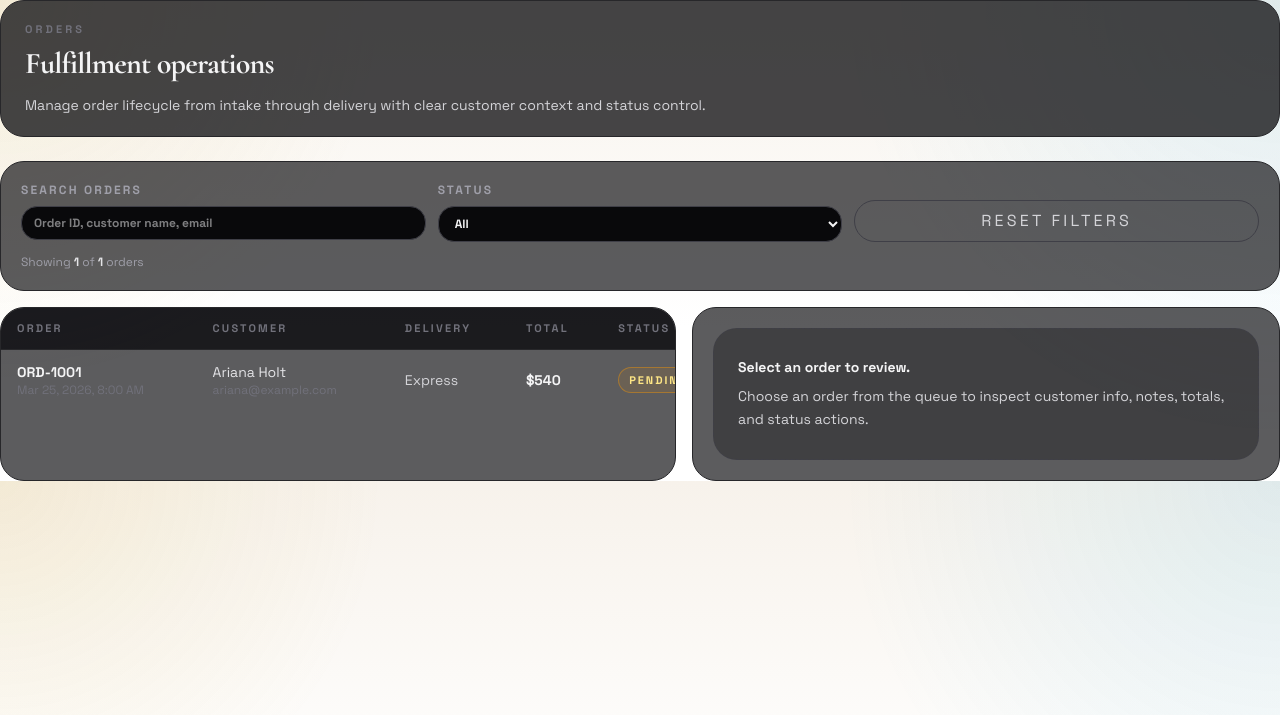
Test: AdminOrdersPage › supports keyboard order selection and confirmed status update workflow
The width and height of the screenshot is (1280, 715).
Press Enter in the button "ORD-1001", box [1,349,741,410]
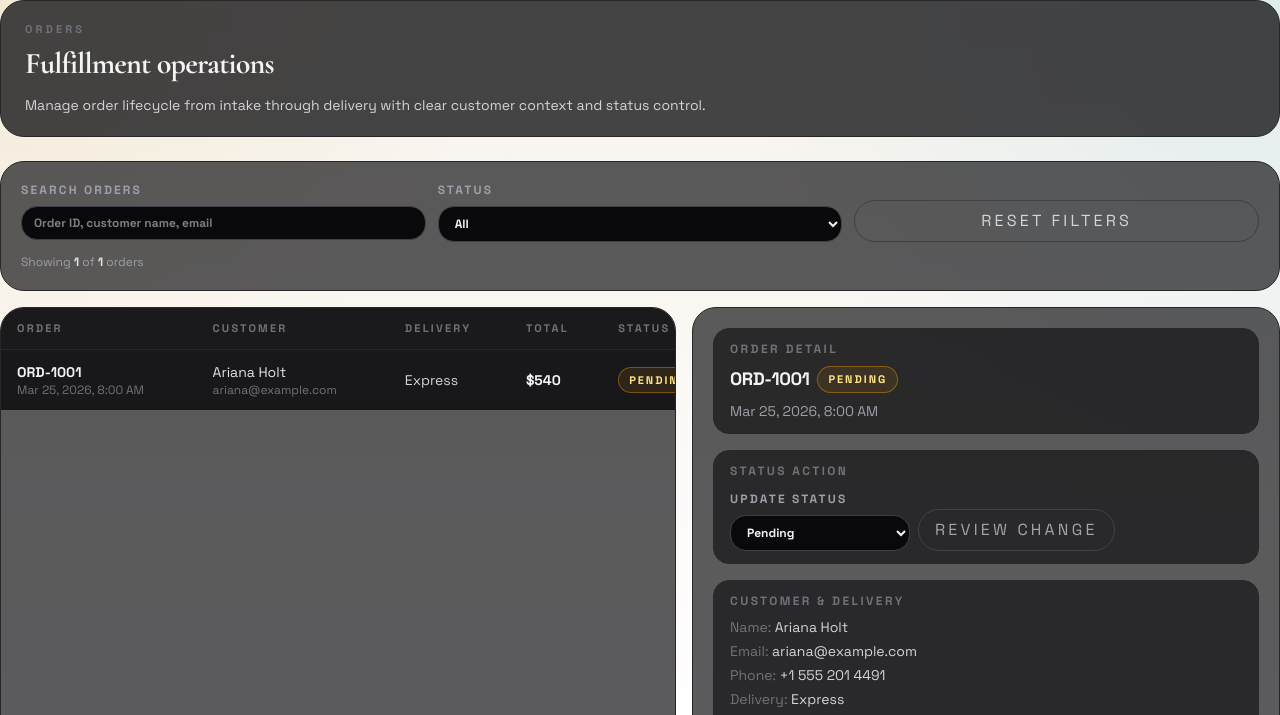
Expected: the text "Order detail" is shown, [730,341,838,357]
Select "Shipped" in the dropdown labelled "Update status": (820, 533) [730,515,910,551]
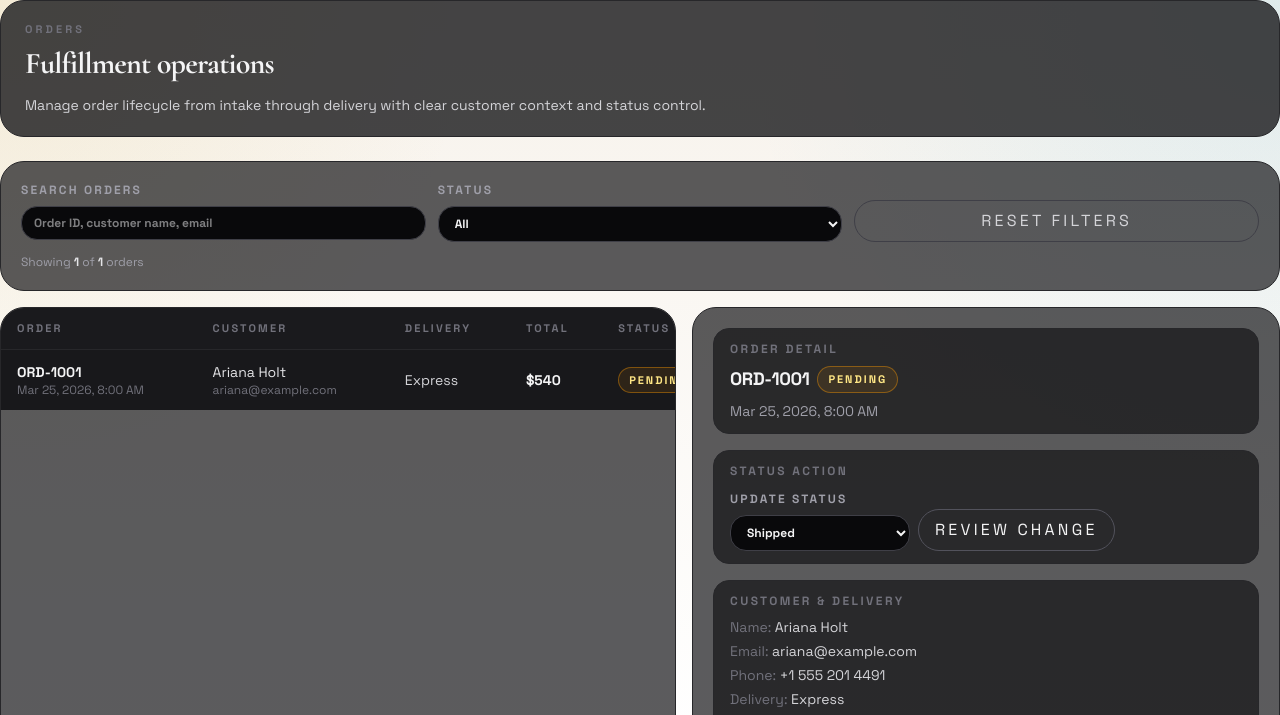
Click the button "Review change": (1016, 530) [918,509,1115,551]
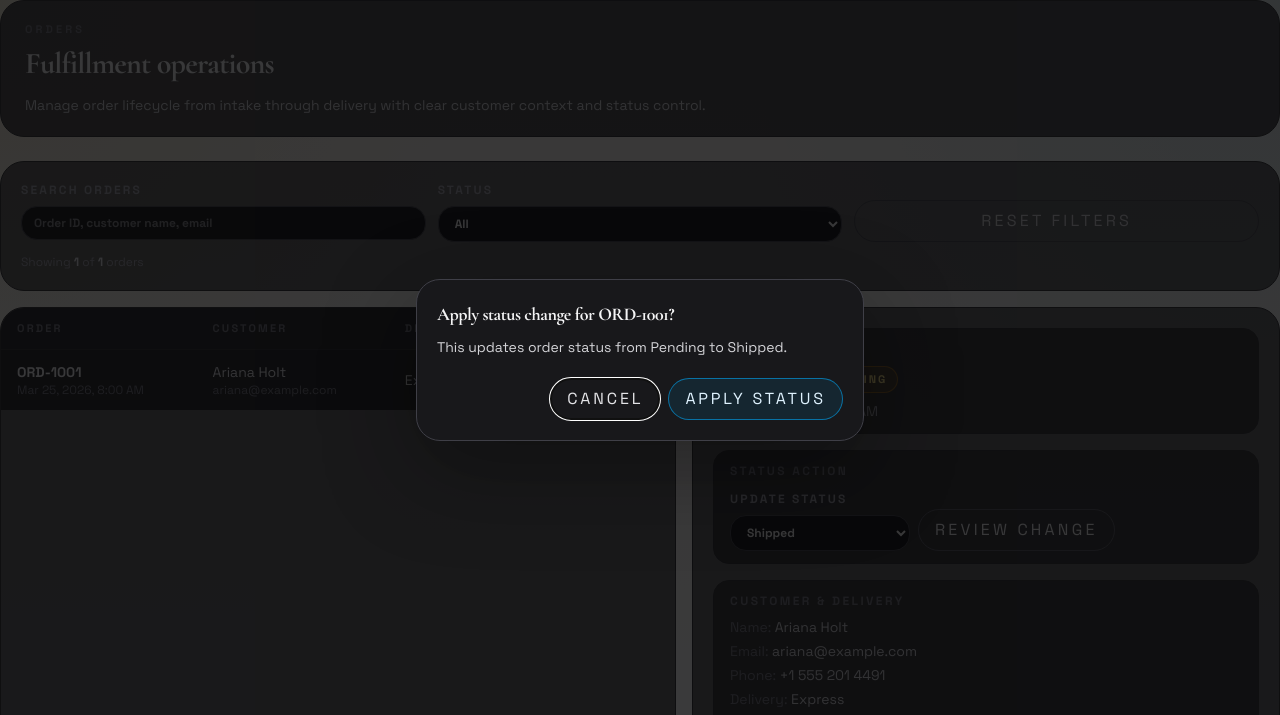
Expected: the dialog is shown, [416,279,864,441]
Click the button "Apply status": (756, 399) [668,378,843,420]
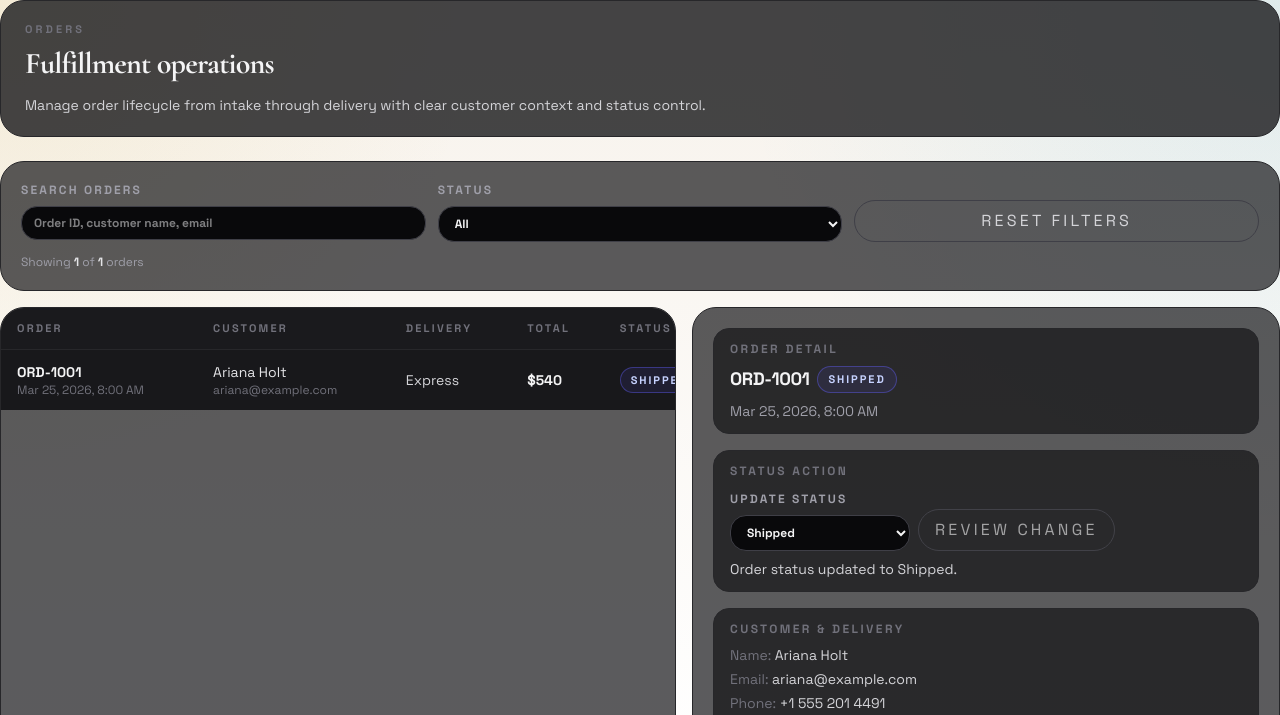
Expected: the text "Order status updated to Shipped." is shown, [730,560,957,578]
